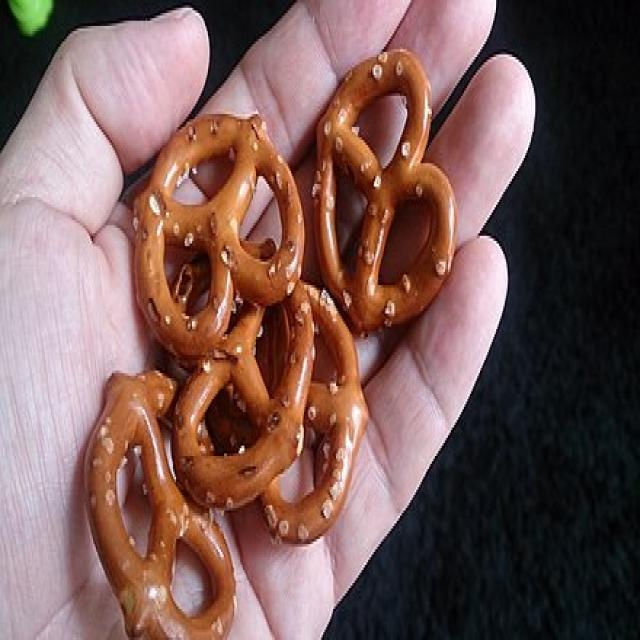Salatini: (85, 41, 459, 639), (308, 47, 456, 337)
